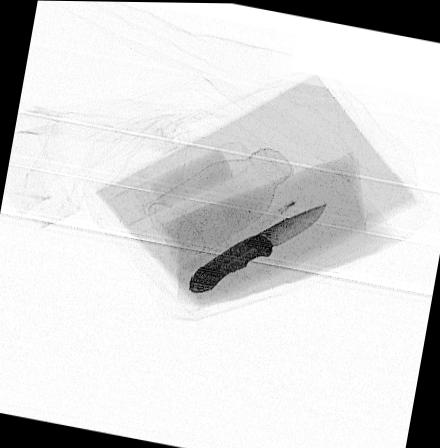Knife: (184, 200, 328, 294)
